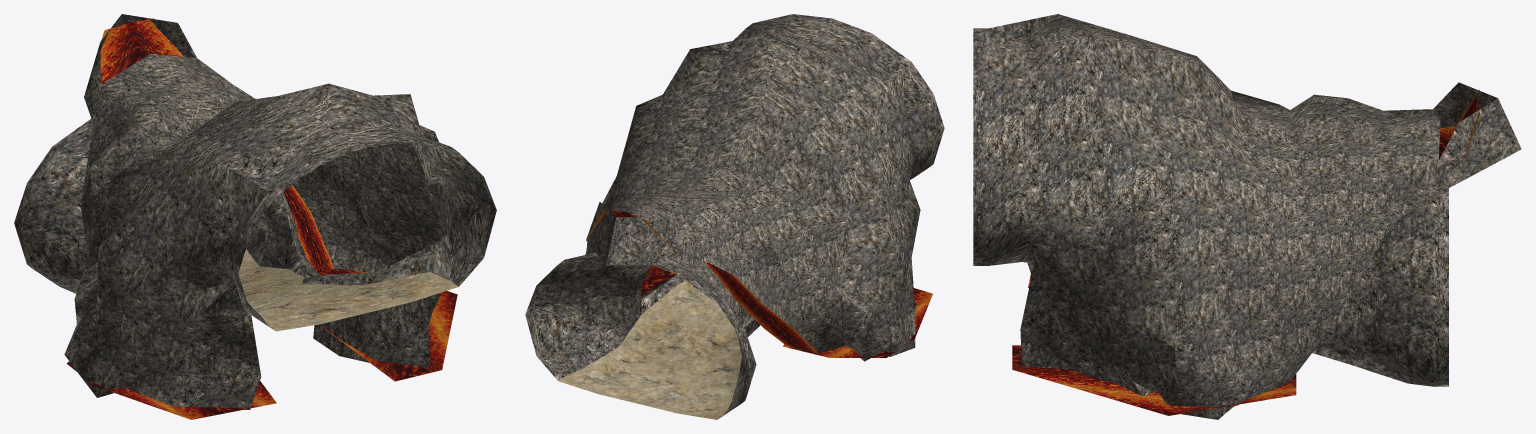
The model's file is pir_m_are_cav_hallWideAscend_lava.fbx.
The picture shows the model from 3 angles, left to right: view 1: azimuth 30°, elevation 25°; view 2: azimuth 150°, elevation 25°; view 3: azimuth 270°, elevation 25°; orthographic projection. The views are drawn at different scales.
Parts seen in each view (by area): view 1: hallWideAscend_wall, hallWideAscend_floor, lava_hot_0, lava_hot_1; view 2: hallWideAscend_wall, hallWideAscend_floor, lava_hot_0, lava_hot_1; view 3: hallWideAscend_wall, lava_hot_1, lava_hot_0.
Part boxes in pixels (x1,y1,x2,y2): hallWideAscend_wall: [14, 14, 496, 409]; hallWideAscend_floor: [238, 249, 458, 331]; lava_hot_0: [100, 18, 333, 271]; lava_hot_1: [67, 268, 457, 419]; hallWideAscend_wall: [525, 14, 944, 417]; hallWideAscend_floor: [558, 280, 742, 419]; lava_hot_0: [587, 210, 817, 353]; lava_hot_1: [640, 265, 932, 357]; hallWideAscend_wall: [973, 14, 1521, 419]; lava_hot_1: [1012, 274, 1296, 415]; lava_hot_0: [1439, 89, 1479, 178].
Bounding box in the file's own units: 14425 × 11009 × 17289.
3 materials, 3 textured.
